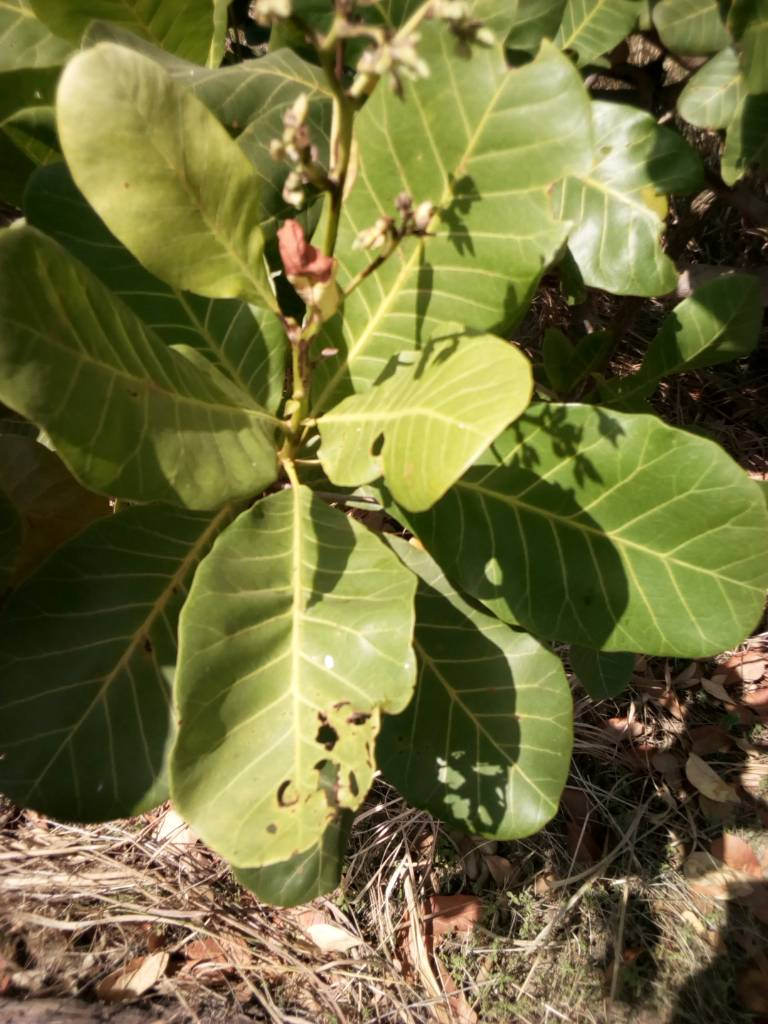Anoplonemis curvipes: (182, 492, 408, 857)
